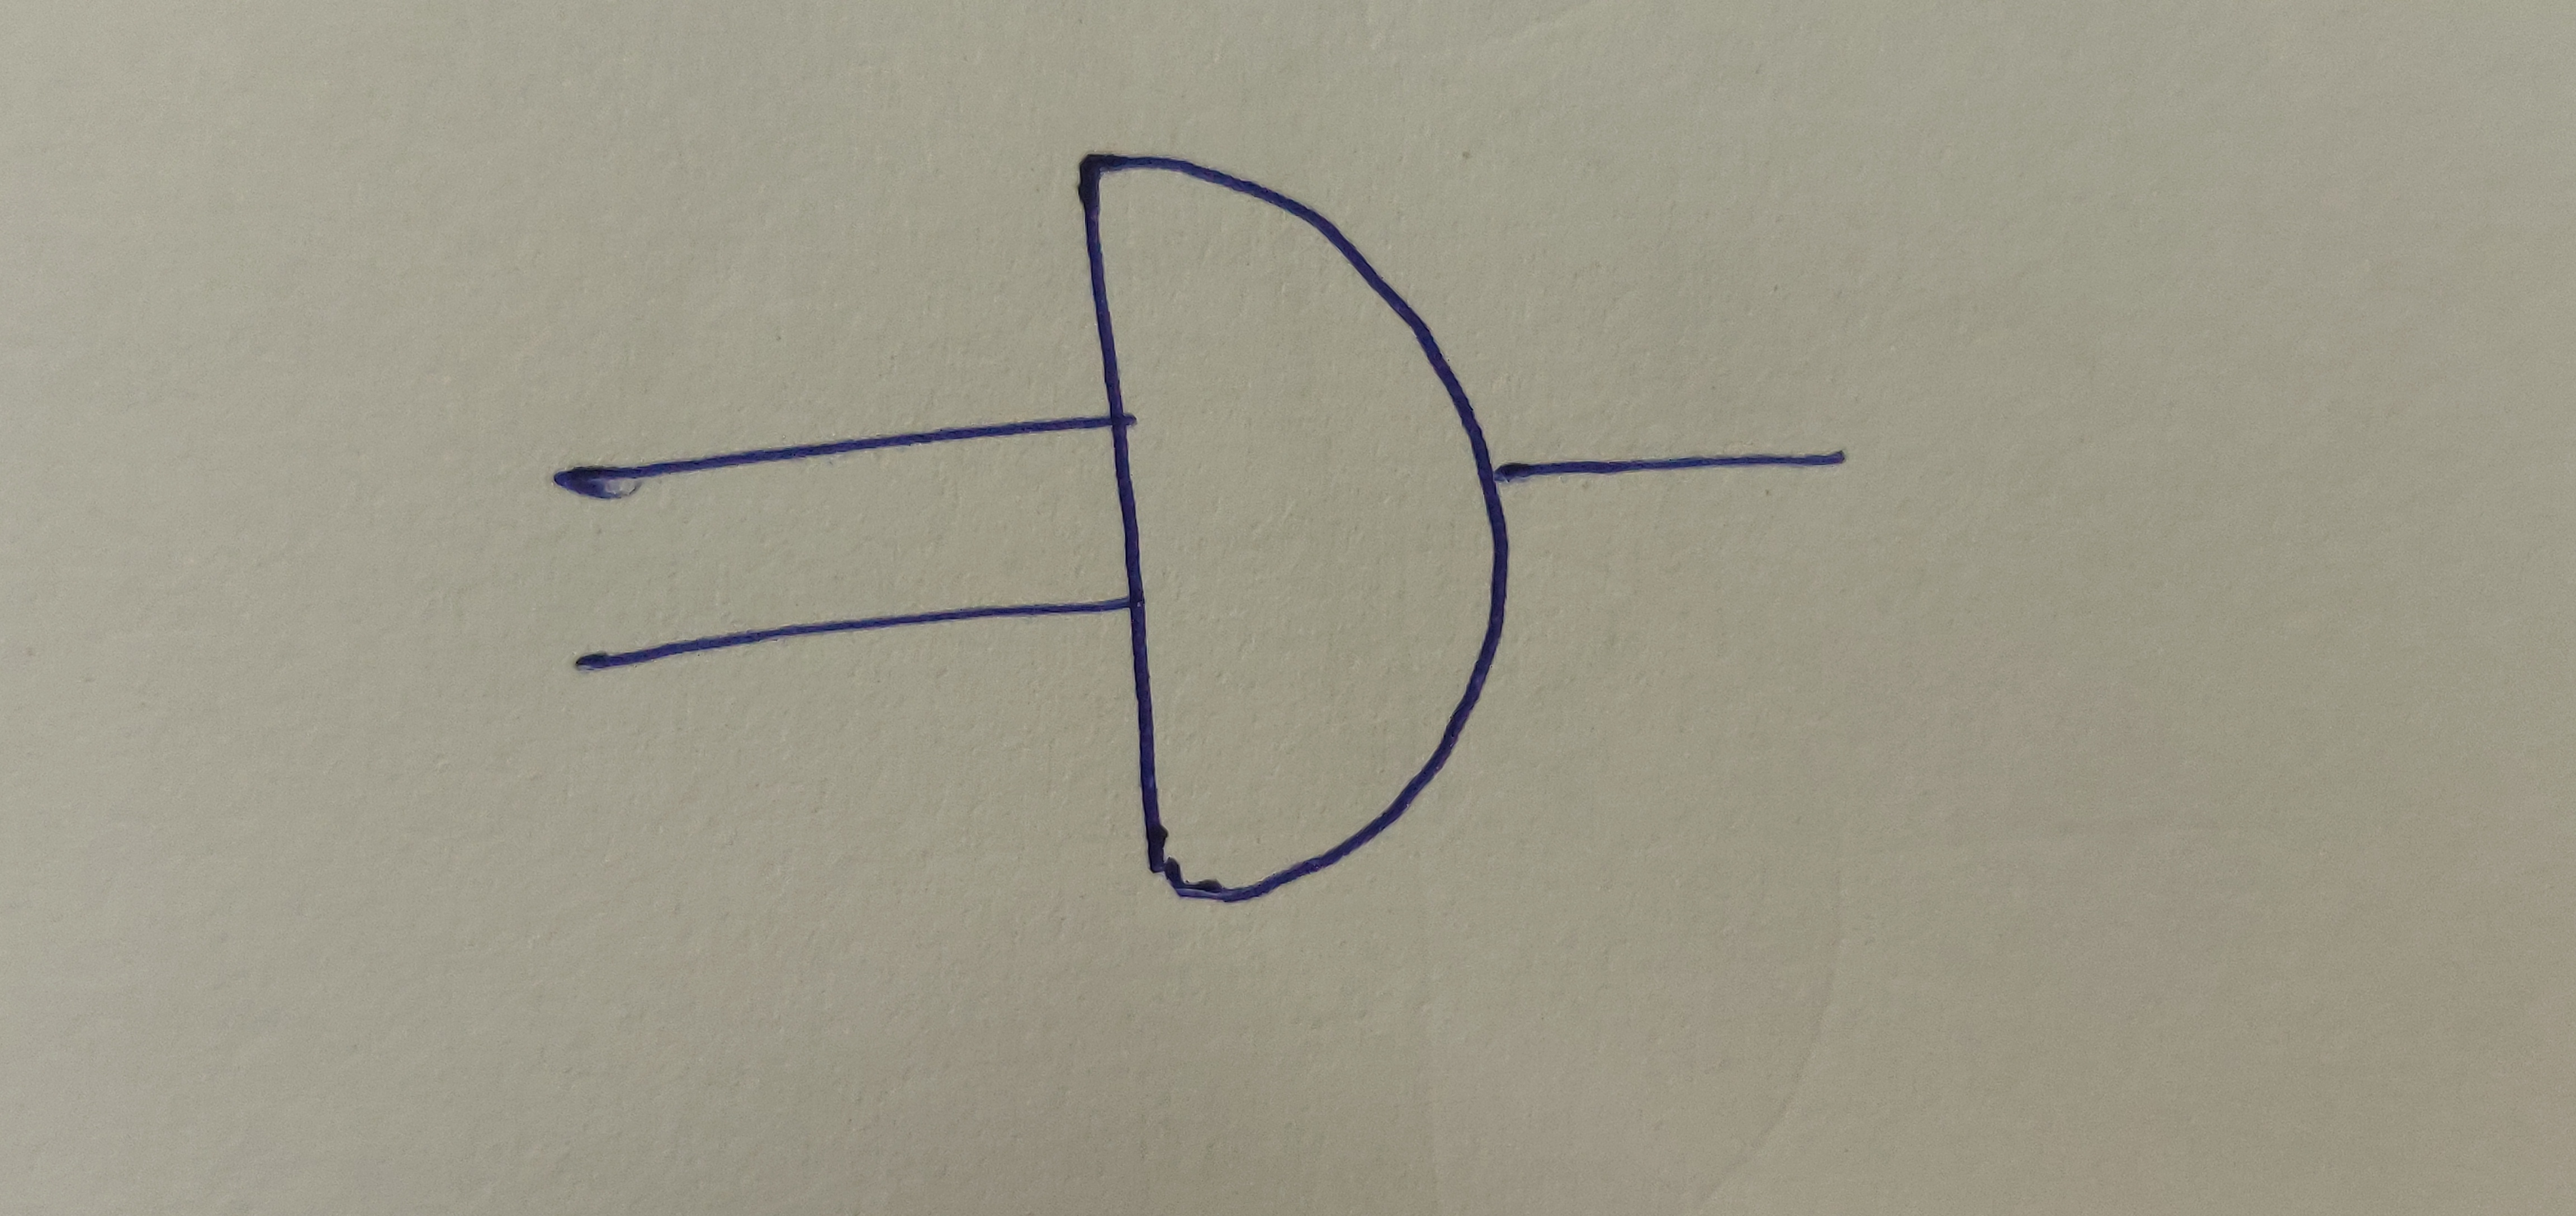and: (1078, 146, 1513, 892)
